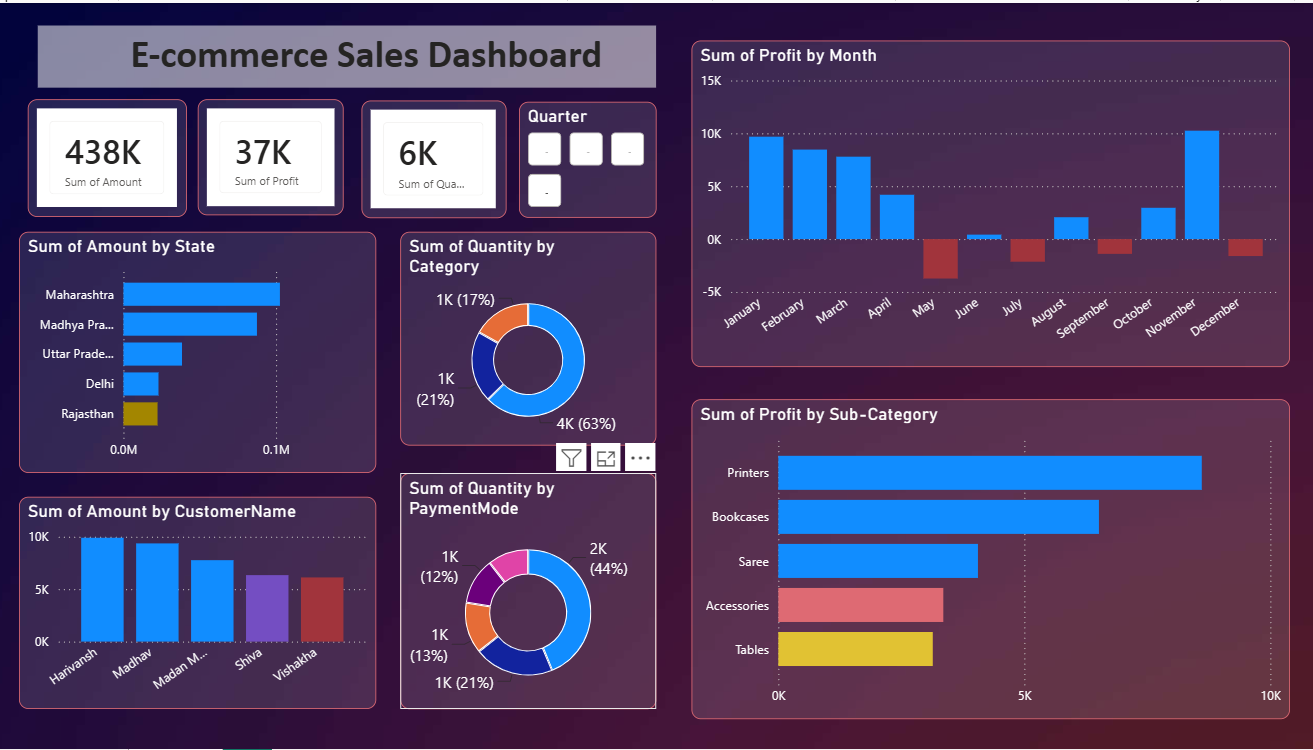

Layout of this report page (visuals, bound fields, positions):
{"tool":"powerbi","page":{"name":"Page 1","canvas":[1280,720],"ordinal":0},"visuals":[{"type":"textbox","box":[42.2,21.7,597.2,60.3],"z":0},{"type":"barChart","fields":{"Category":["Details.Sub-Category"],"Y":["Sum(Details.Profit)"]},"box":[673.2,382.4,577.9,308.8],"z":1000},{"type":"donutChart","fields":{"Category":["Details.Category"],"Y":["Sum(Details.Quantity)"]},"box":[392.1,220.8,247.3,206.3],"z":2000},{"type":"donutChart","fields":{"Category":["Details.PaymentMode"],"Y":["Sum(Details.Quantity)"]},"box":[392.1,453.6,247.3,228],"z":3000},{"type":"barChart","fields":{"Category":["Orders.State"],"Y":["Sum(Details.Amount)"]},"box":[23.8,221.2,345,232.5],"z":4000},{"type":"columnChart","fields":{"Category":["Orders.CustomerName"],"Y":["Sum(Details.Amount)"]},"box":[23.8,476.2,345,205],"z":5000},{"type":"columnChart","fields":{"Category":["Orders.Order Date.Variation.Date Hierarchy.Month"],"Y":["Sum(Details.Profit)"]},"box":[673.2,36.2,577.9,314.9],"z":6000},{"type":"cardVisual","fields":{"Data":["Sum(Details.Amount)"]},"box":[32.6,92.9,153.2,113.4],"z":7000},{"type":"cardVisual","fields":{"Data":["Sum(Details.Profit)"]},"box":[196.6,92.9,141.2,112.2],"z":8000},{"type":"cardVisual","fields":{"Data":["Sum(Details.Quantity)"]},"box":[354.7,94.1,139.9,113.4],"z":9000},{"type":"advancedSlicerVisual","fields":{"Values":["Orders.Order Date.Variation.Date Hierarchy.Quarter"]},"box":[506.7,95.3,132.7,112.2],"z":10000}]}

Visuals, with their boxes in screenshot pixels (x1, y1, x2, y2), scaled from the page's 1280x720 canvas onto the 1313x750 screenshot:
textbox: select_region(43, 23, 656, 85)
barChart - Details.Sub-Category x Sum(Details.Profit): select_region(691, 398, 1283, 720)
donutChart - Details.Category x Sum(Details.Quantity): select_region(402, 230, 656, 445)
donutChart - Details.PaymentMode x Sum(Details.Quantity): select_region(402, 473, 656, 710)
barChart - Orders.State x Sum(Details.Amount): select_region(24, 230, 378, 473)
columnChart - Orders.CustomerName x Sum(Details.Amount): select_region(24, 496, 378, 710)
columnChart - Orders.Order Date.Variation.Date Hierarchy.Month x Sum(Details.Profit): select_region(691, 38, 1283, 366)
cardVisual - Sum(Details.Amount): select_region(33, 97, 191, 215)
cardVisual - Sum(Details.Profit): select_region(202, 97, 347, 214)
cardVisual - Sum(Details.Quantity): select_region(364, 98, 507, 216)
advancedSlicerVisual - Orders.Order Date.Variation.Date Hierarchy.Quarter: select_region(520, 99, 656, 216)
